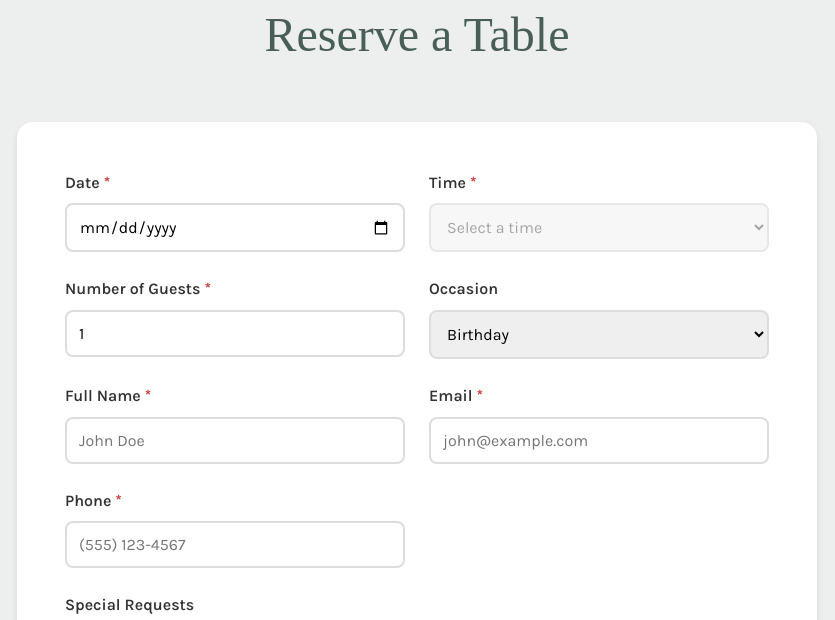
BookingForm Component › Form Validation › validates guests number is within range
The width and height of the screenshot is (835, 620).
Replace the text in the number field labelled "Number of Guests *" with "15" at (235, 334), box [65, 310, 405, 357]
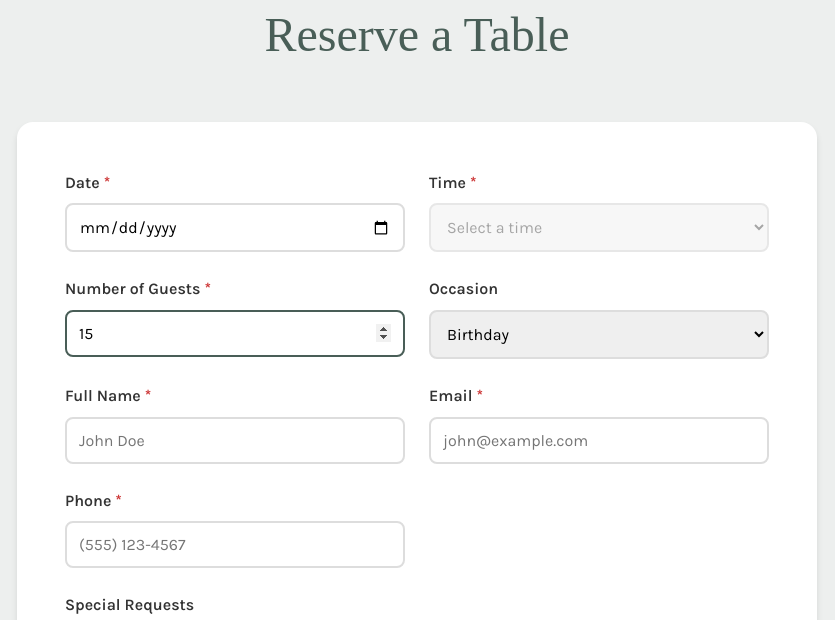
Leave the number field labelled "Number of Guests *", box [65, 310, 405, 357]
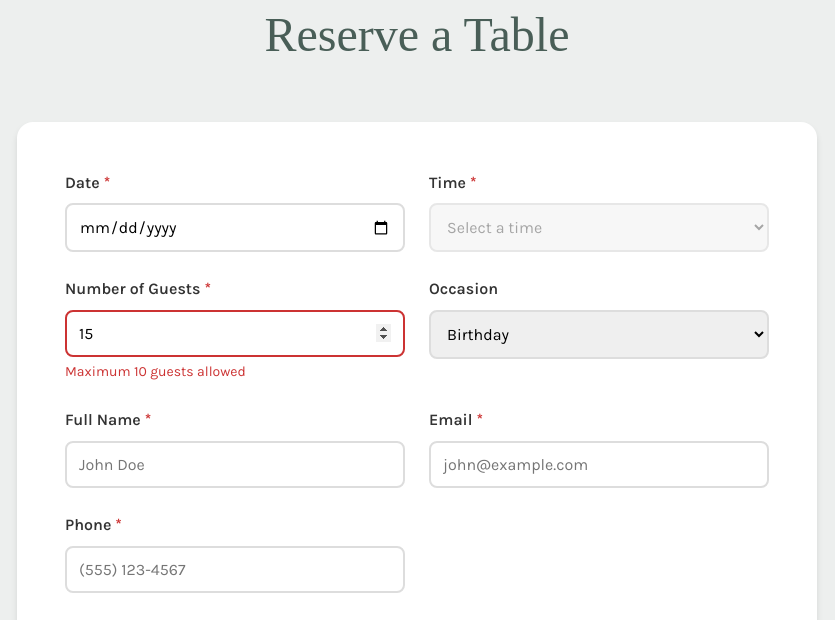
Expected: the text "Maximum 10 guests allowed" is shown, [65, 363, 246, 380]
